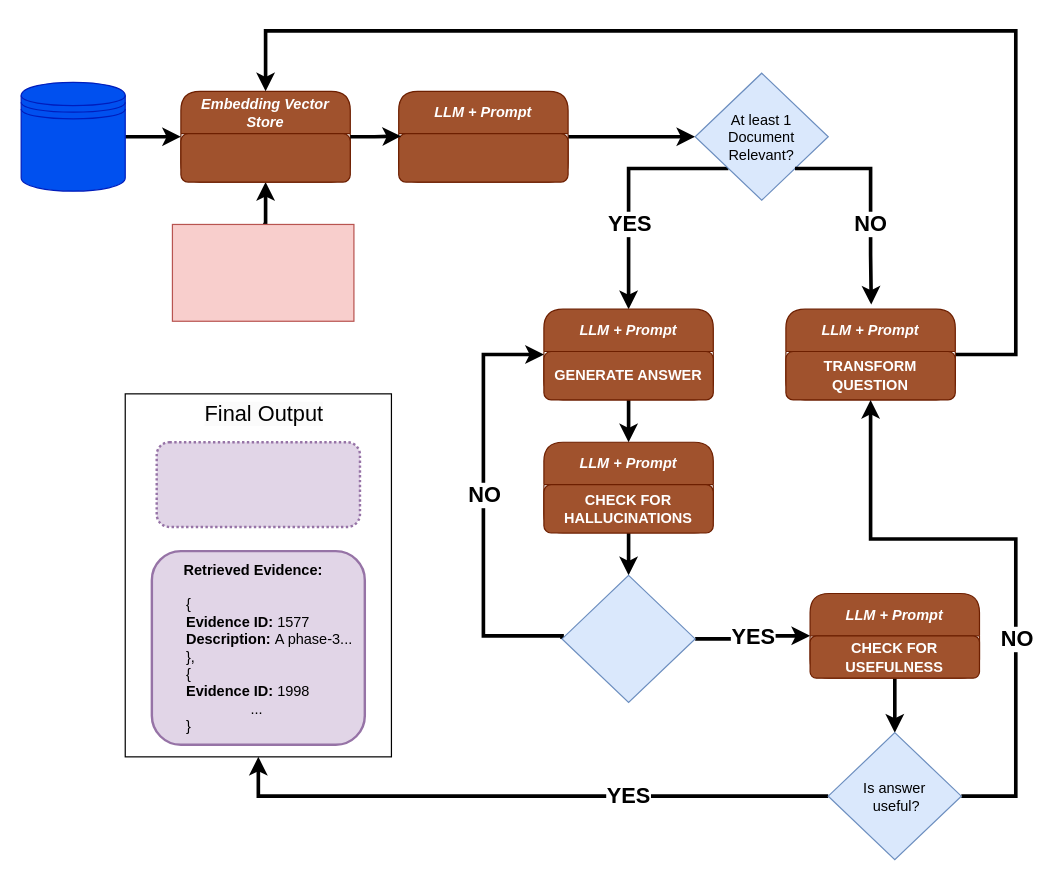
The diagram is 1054 pixels wide and 881 high, and some of its shapes have lost their labels. The box of each missing label's shape, as (x1, y1, x2, y2) in pixels:
Agent Question: What are the effects of crizotinib on lung adenocarcinoma?: (171, 223, 354, 321)
Evidence KB: (20, 81, 125, 191)
Final Answer: Crizotinib has shown...: (155, 440, 361, 528)
GRADE DOCS: (397, 132, 568, 182)
Is answer based on docs?: (561, 574, 695, 702)
RETRIEVE DOCS: (180, 132, 350, 182)
